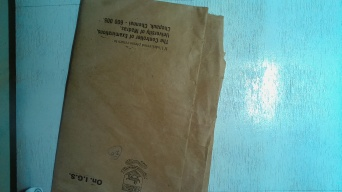l: (49, 3, 229, 192)
